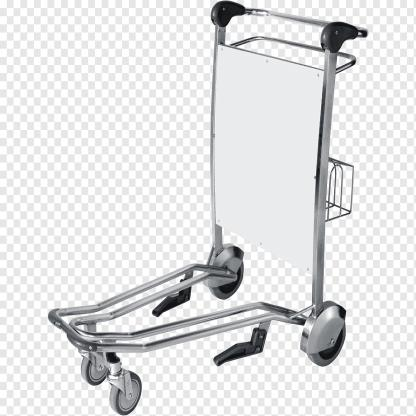airport-trolley: (46, 0, 370, 416)
